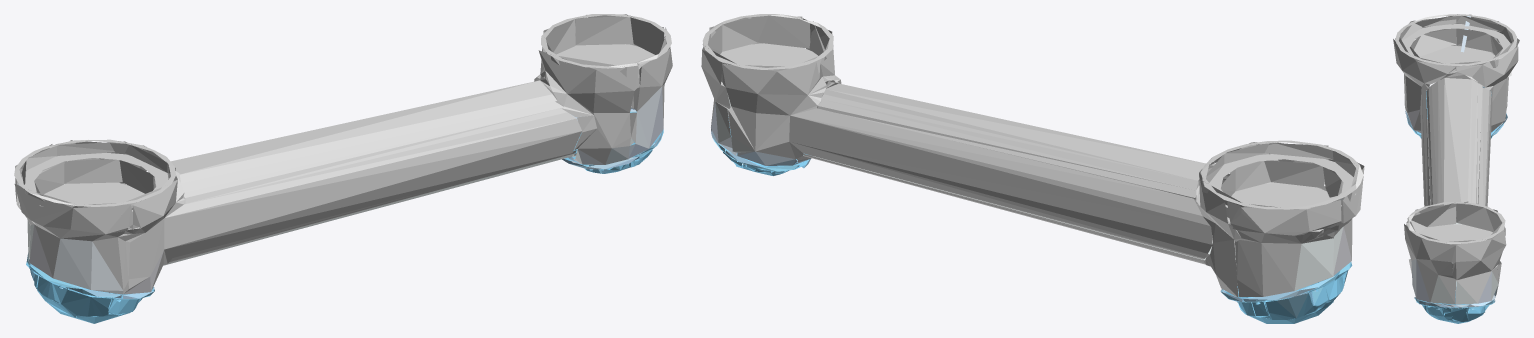
Rendered from MotomanHC10DTPLink2.dae.
3 views of the same model, side by side, from view 1: azimuth 30°, elevation 25°; view 2: azimuth 150°, elevation 25°; view 3: azimuth 270°, elevation 25° (orthographic). The views are drawn at different scales.
Parts seen in each view (by area): view 1: MotomanHC10DTPLink2; view 2: MotomanHC10DTPLink2; view 3: MotomanHC10DTPLink2.
Boxes of the visible parts, x1=… form: MotomanHC10DTPLink2: x1=14, y1=14, x2=672, y2=323; MotomanHC10DTPLink2: x1=701, y1=14, x2=1364, y2=323; MotomanHC10DTPLink2: x1=1393, y1=14, x2=1519, y2=323.
Bounding box in the file's own units: 0.8642 × 0.1957 × 0.1939.
